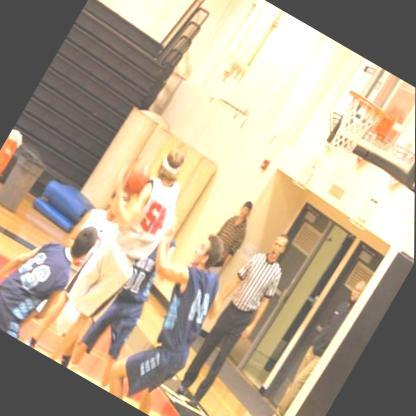basketball: (121, 157, 157, 198)
rim: (342, 87, 389, 122)
